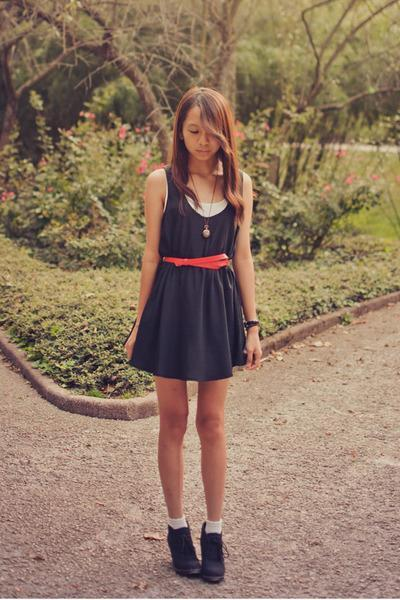dress: (132, 189, 262, 385)
shoe: (167, 522, 227, 584)
